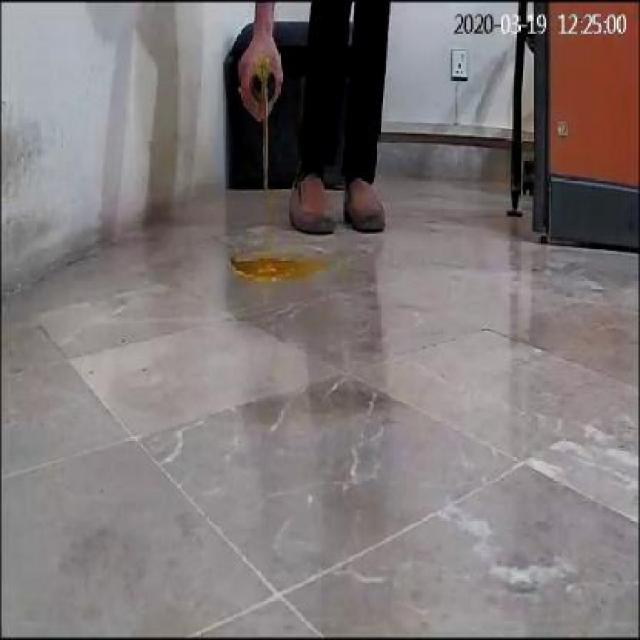spill: (225, 243, 328, 291)
